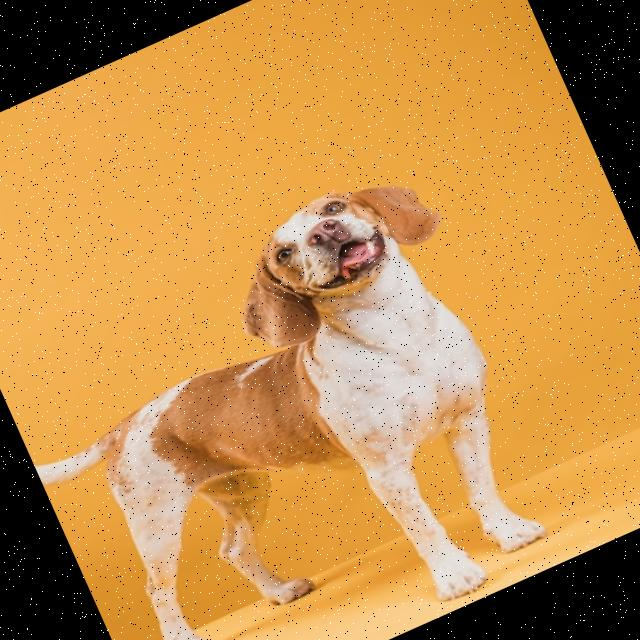Dog: (0, 152, 585, 640)
